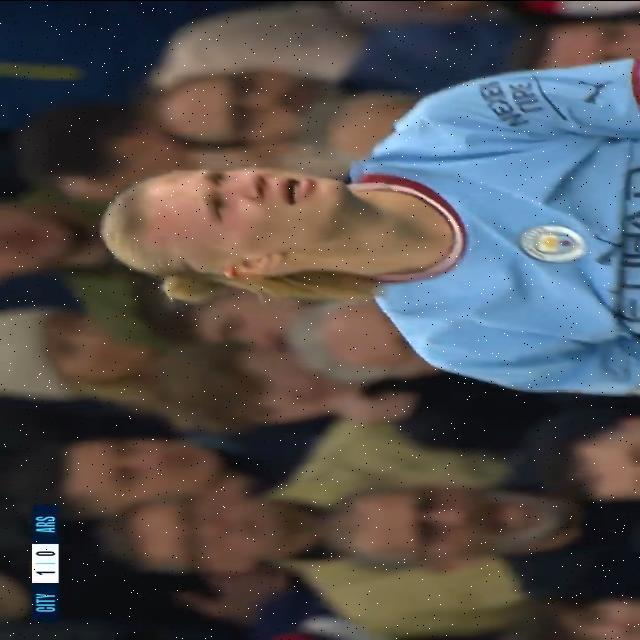player: (71, 0, 640, 419)
